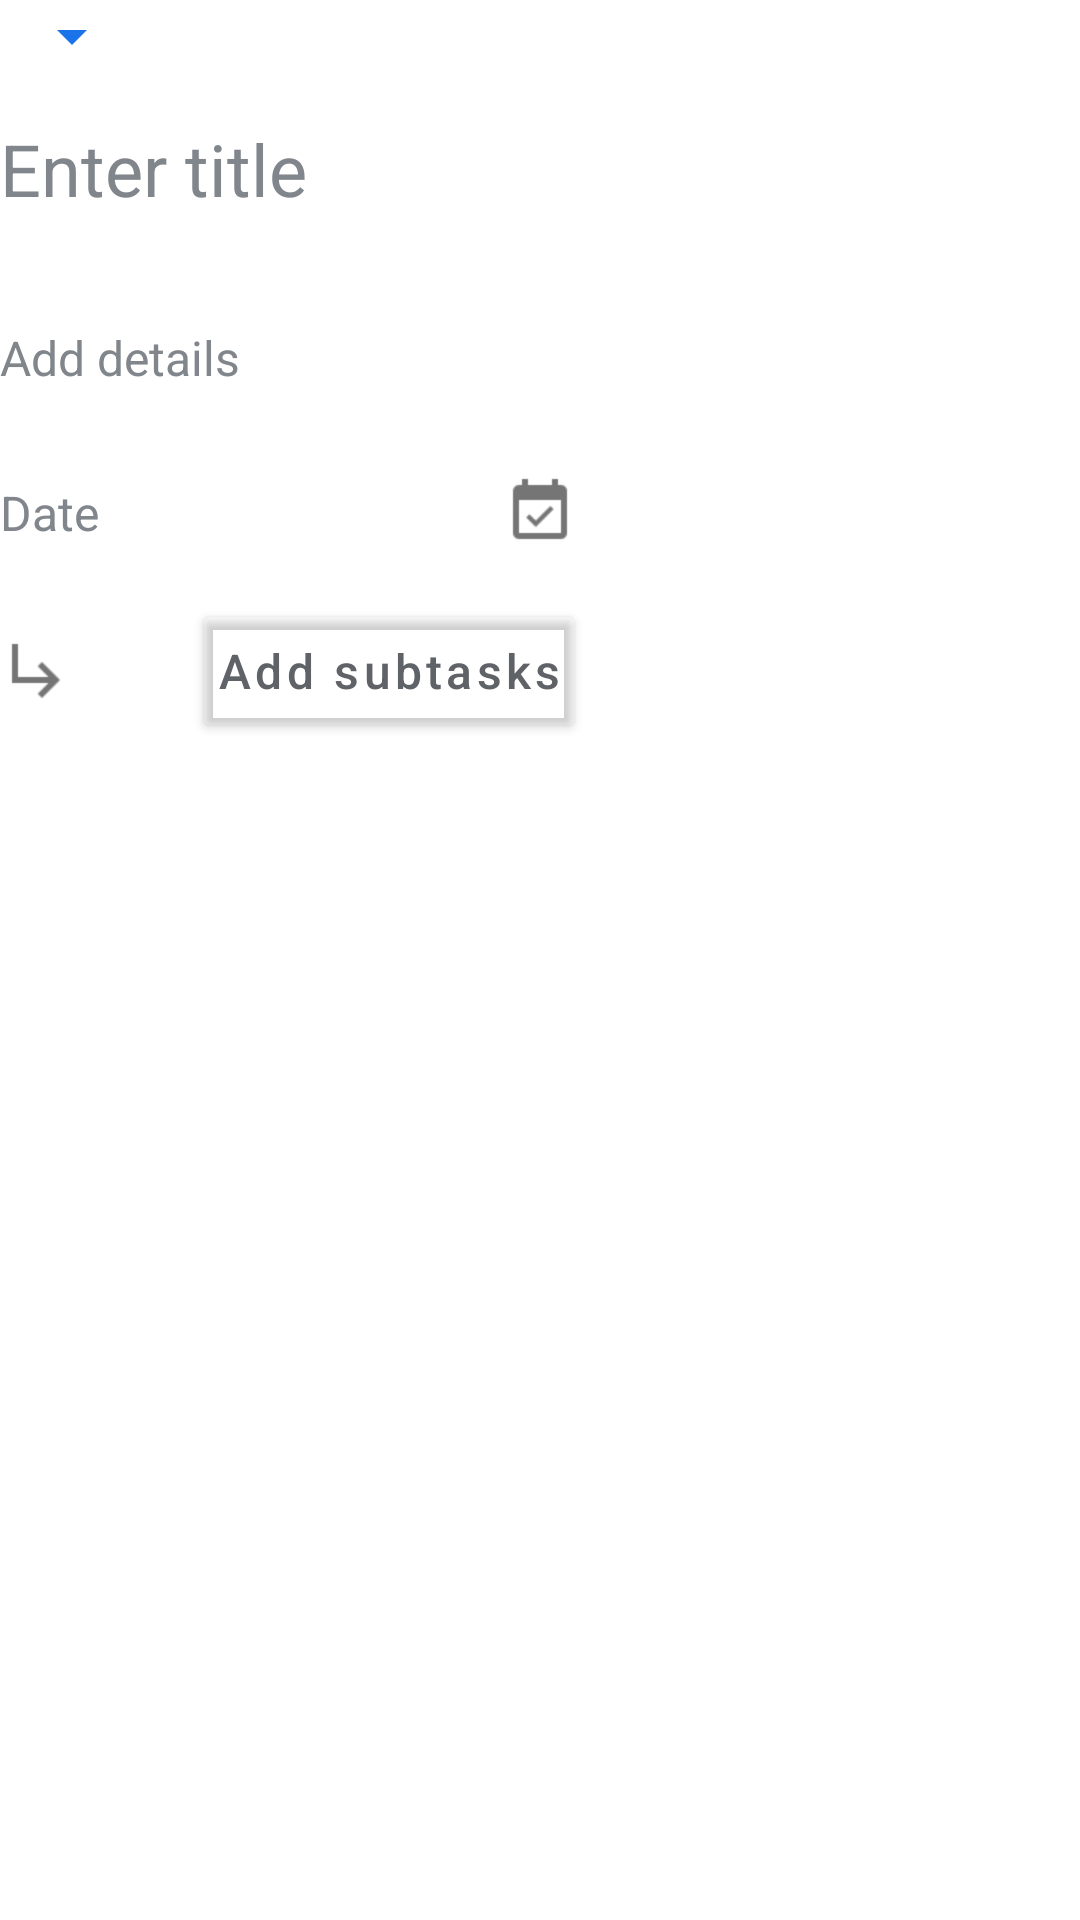

Icon click points for this 1080px×1920px phone screenshot, format [x,y]:
quantum event available: [540,509]
quantum subdirectory arrow right: [36,671]
